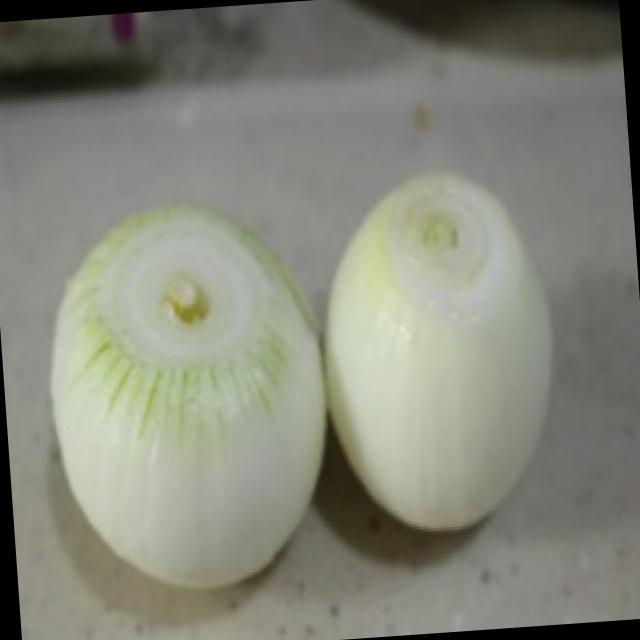Onion: (51, 196, 325, 589), (323, 173, 556, 535)
